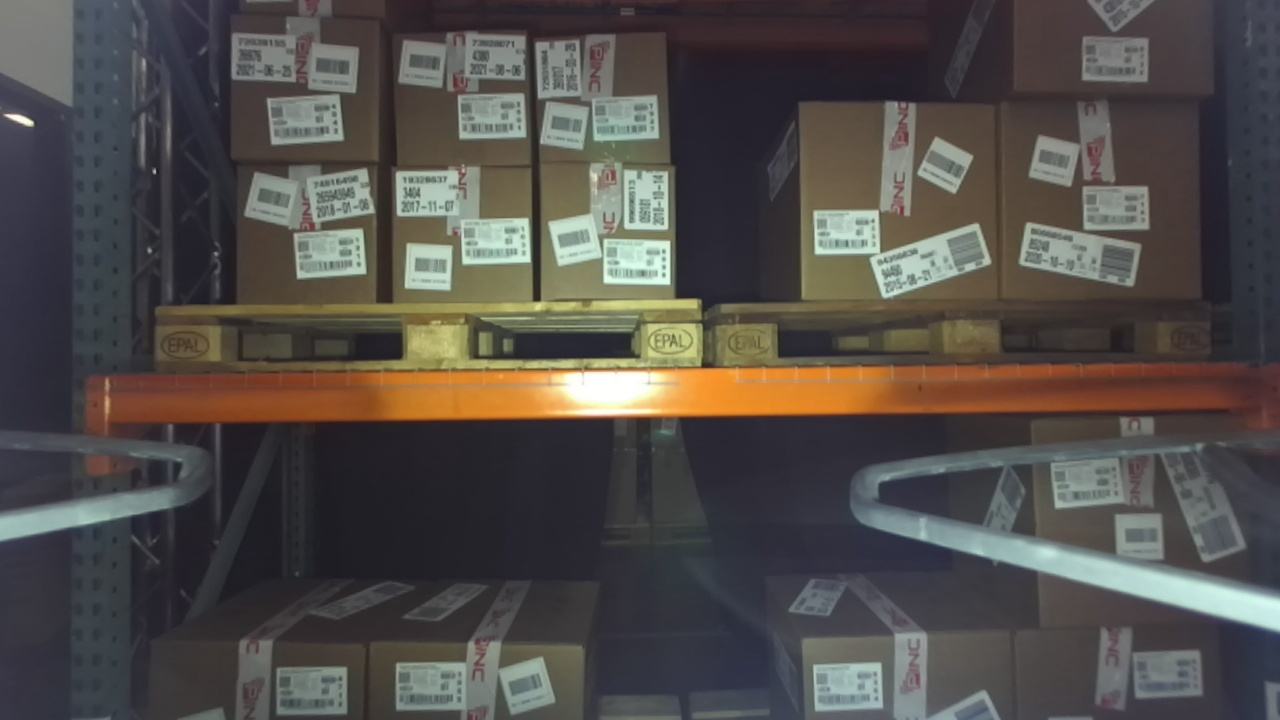box: (987, 78, 1235, 333), (1002, 412, 1265, 650), (777, 87, 1023, 326), (201, 1, 402, 176), (214, 148, 402, 322), (371, 15, 555, 185), (512, 147, 692, 316), (378, 153, 553, 320), (518, 21, 699, 182)
